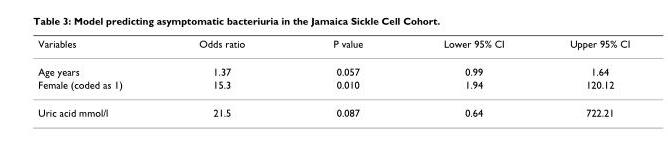table: (37, 37, 629, 118)
table column: (402, 37, 536, 118), (160, 37, 288, 118), (37, 37, 160, 118), (288, 37, 402, 118), (536, 37, 629, 118)
table column header: (37, 37, 629, 57)
table row: (37, 77, 629, 98), (37, 37, 629, 57), (37, 57, 629, 77), (37, 98, 629, 118)
